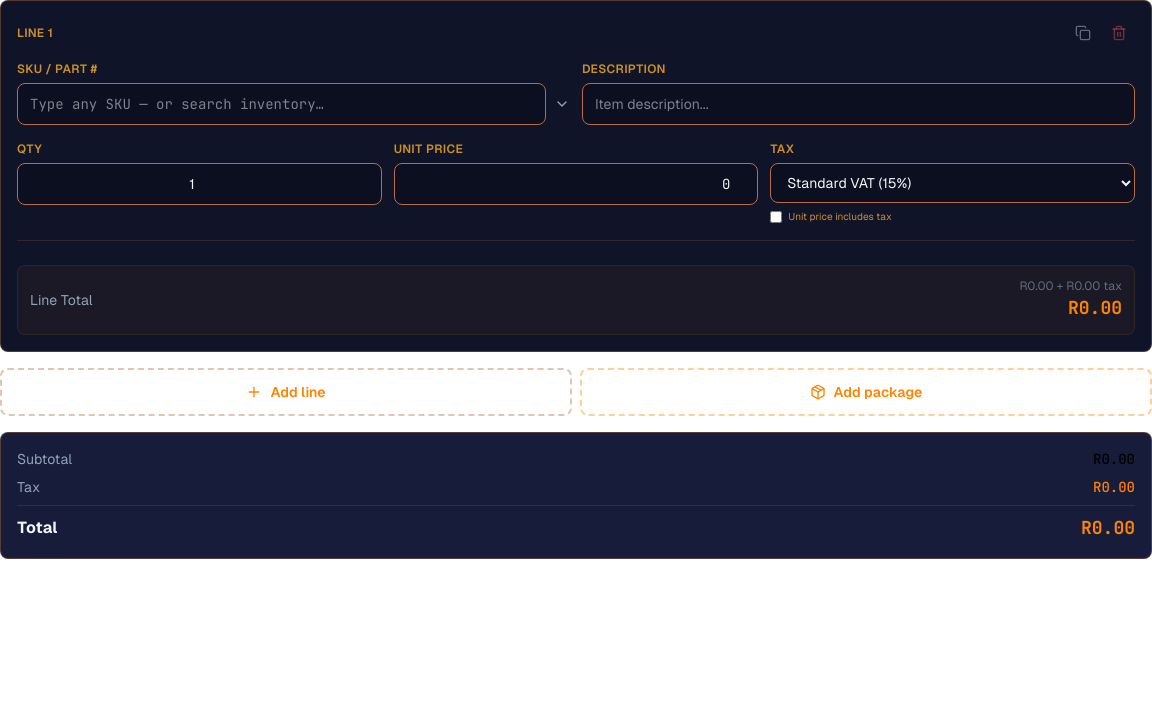
Test case: Add package on an order › lists the client's packages first, and puts the package's lines and its notes on the order
Click the button "Add package" at point(866, 392), box [580,368,1151,416]
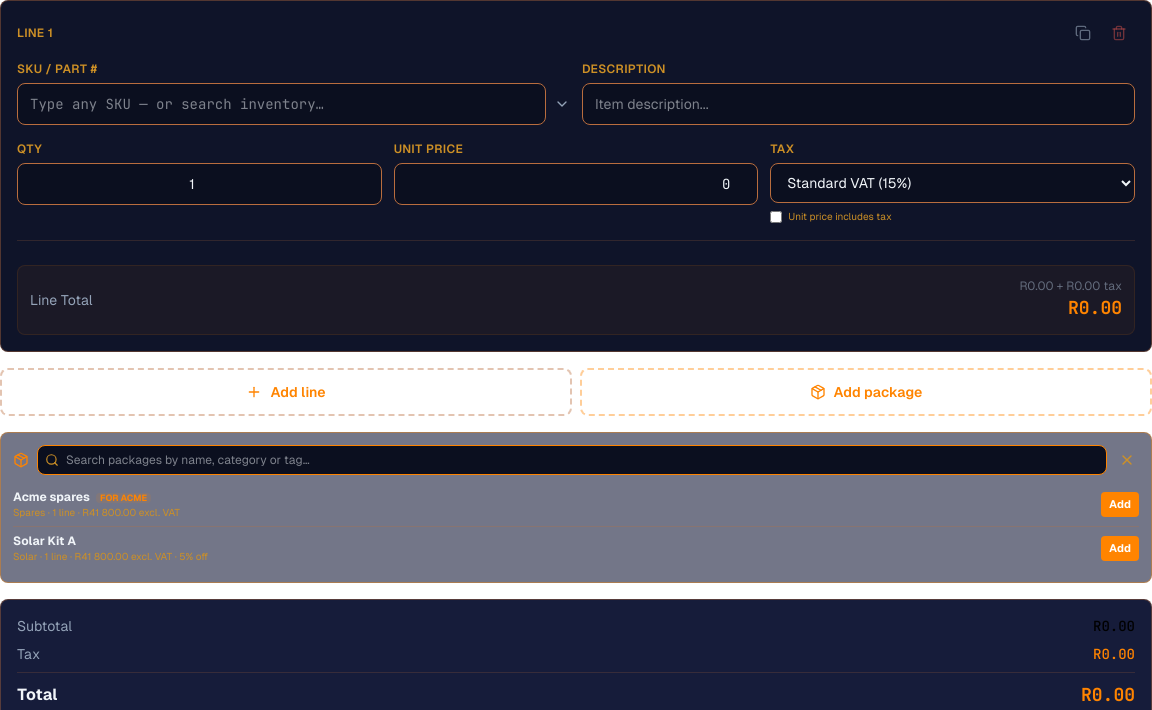
Check: the list item that starts with "Acme spares" is shown, box [13,490,90,504]
Check: the list item that starts with "Acme spares" shows "For Acme", box [13,483,1139,527]
Click the button with aria-label "Add package Solar Kit A" at point(1120, 549), box [1101,536,1139,561]
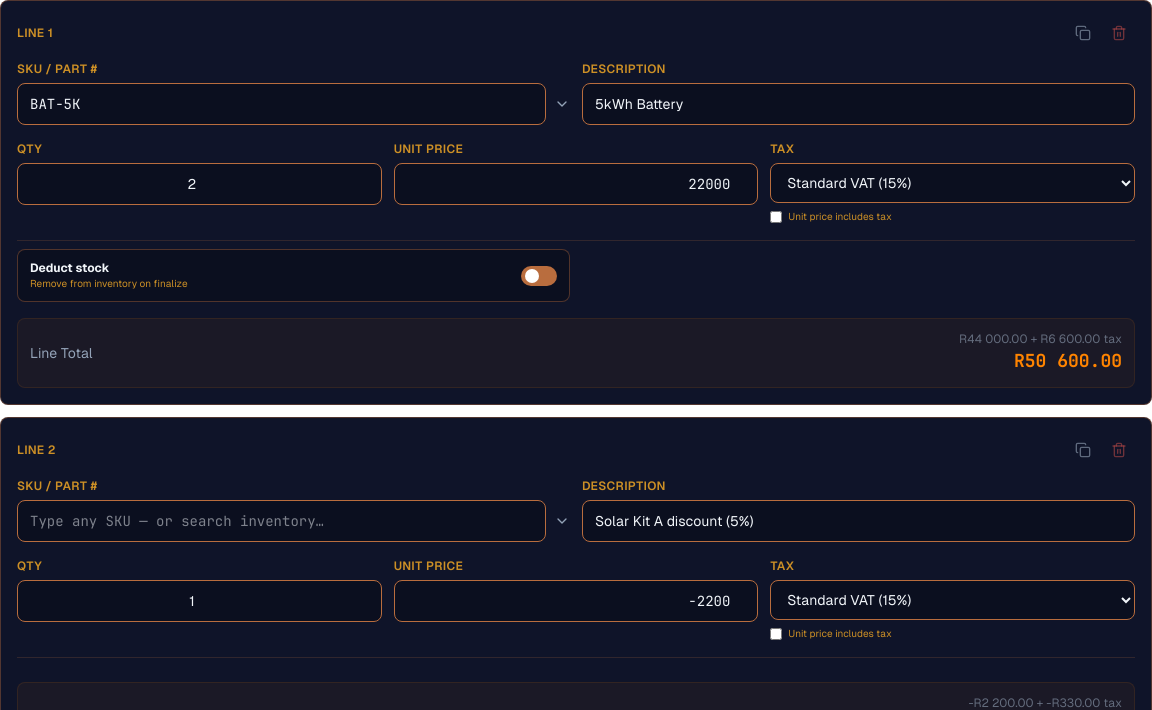
Check: the element with test id "package-picker" is gone
